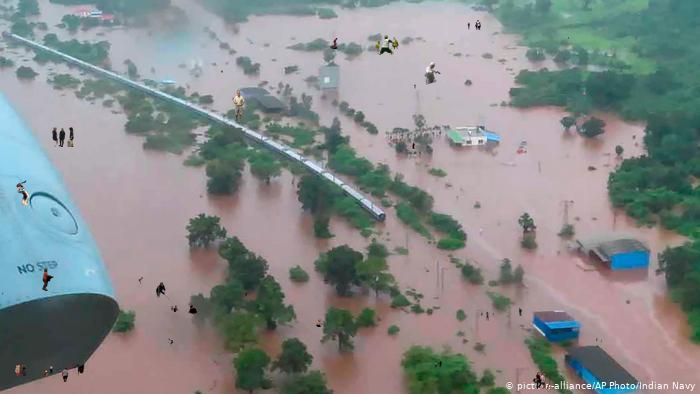Human: (49, 365, 79, 382), (375, 35, 399, 55), (50, 127, 74, 147), (424, 62, 441, 85), (233, 90, 245, 121), (533, 371, 553, 389), (16, 180, 30, 205), (156, 282, 170, 303), (171, 305, 197, 316), (42, 268, 54, 291), (14, 364, 26, 376), (467, 20, 481, 30), (330, 38, 341, 49), (481, 312, 494, 321), (434, 361, 444, 368), (41, 370, 48, 378), (168, 338, 174, 347), (316, 319, 322, 327), (468, 130, 472, 140), (138, 277, 143, 284), (596, 338, 602, 343), (519, 308, 522, 316), (412, 143, 415, 149), (245, 290, 247, 298), (219, 70, 223, 73), (583, 92, 586, 96), (102, 341, 105, 345), (414, 84, 416, 89), (566, 37, 569, 40), (1, 292, 4, 295), (2, 60, 5, 63)
